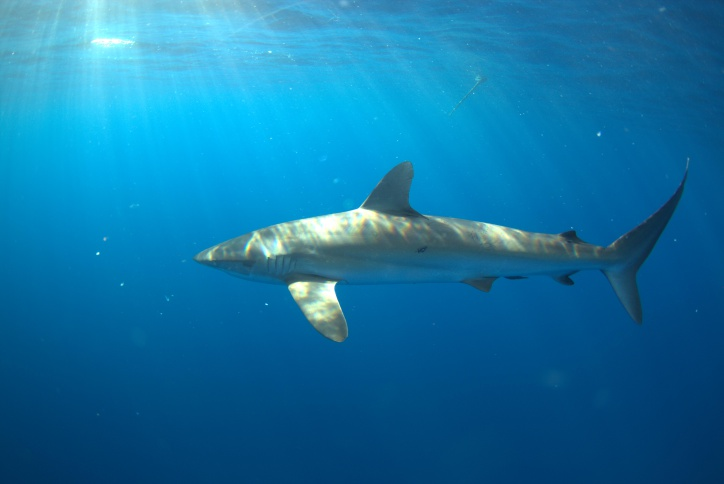Sedoso: (172, 156, 694, 345)
